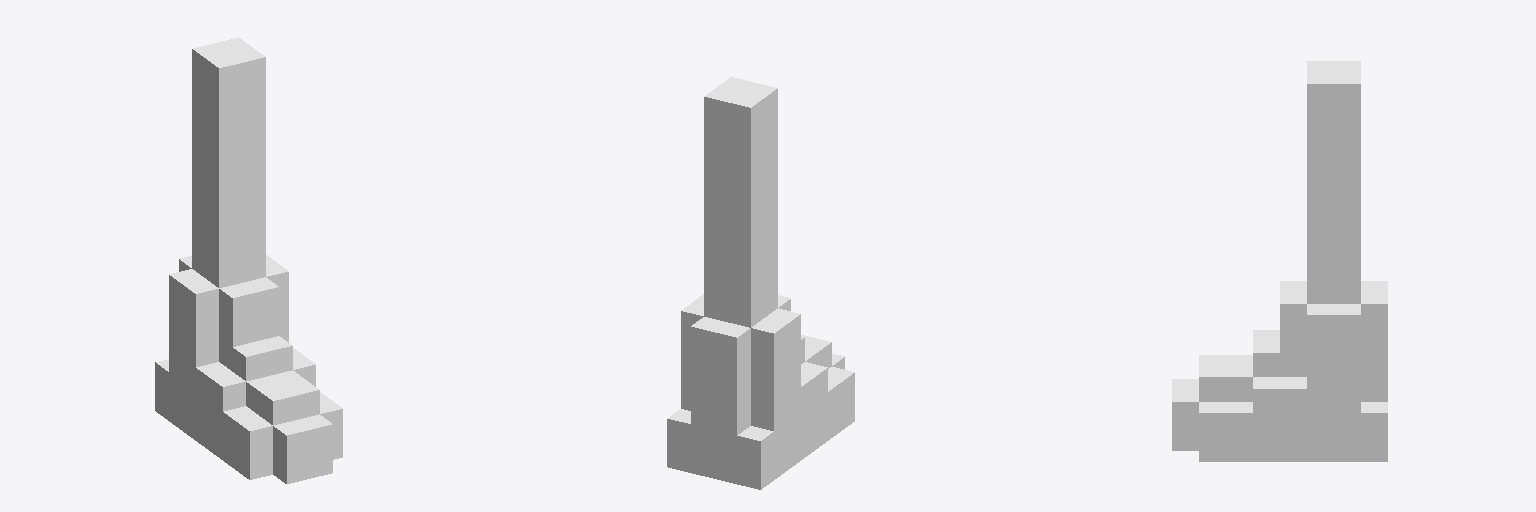
Rendered from Left_Leg.obj.
3 renders of one model, left to right at view 1: azimuth 30°, elevation 25°; view 2: azimuth 150°, elevation 25°; view 3: azimuth 270°, elevation 25°, orthographic.
Parts seen in each view (by area): view 1: object 1; view 2: object 1; view 3: object 1.
Boxes of the visible parts, box(x1,y1,x2,y2) form: object 1: box(155, 37, 342, 483); object 1: box(667, 77, 854, 489); object 1: box(1172, 61, 1387, 461).
Bounding box in the file's own units: 0.4 × 1.5 × 0.8.